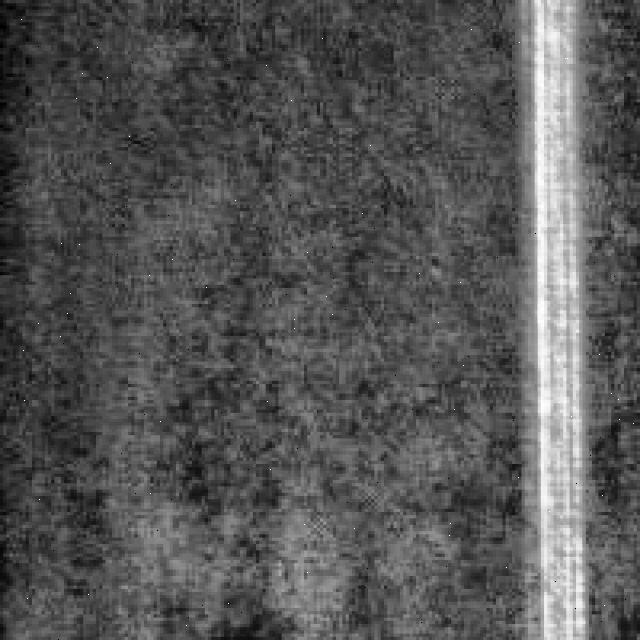Inclusion: (518, 0, 605, 634)
